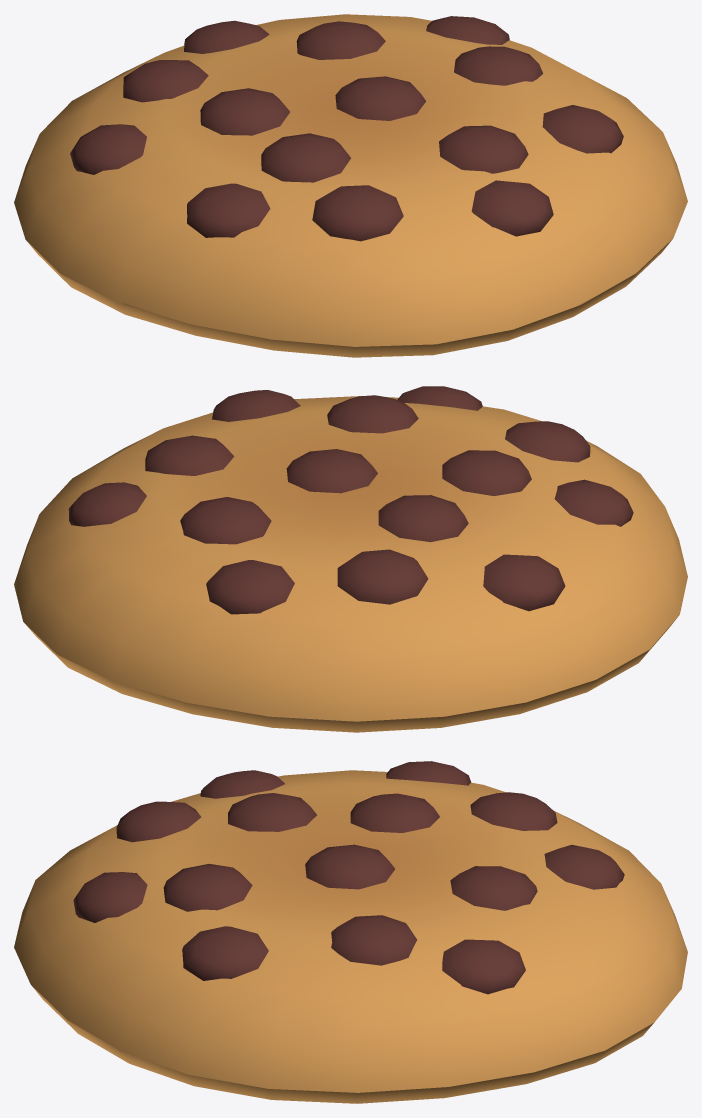
The model's file is Cookie.fbx.
The picture shows the model from 3 angles, top to bottom: view 1: azimuth 30°, elevation 25°; view 2: azimuth 150°, elevation 25°; view 3: azimuth 270°, elevation 25°; orthographic projection.
Parts seen in each view (by area): view 1: ChocCookie_low; view 2: ChocCookie_low; view 3: ChocCookie_low.
Boxes of the visible parts, x1,y1,x2,y2 form: ChocCookie_low: (14, 14, 687, 357); ChocCookie_low: (14, 386, 687, 732); ChocCookie_low: (14, 761, 687, 1103).
Bounding box in the file's own units: 183 × 38.7 × 185.
Materials: 1 (1 with a texture image).
